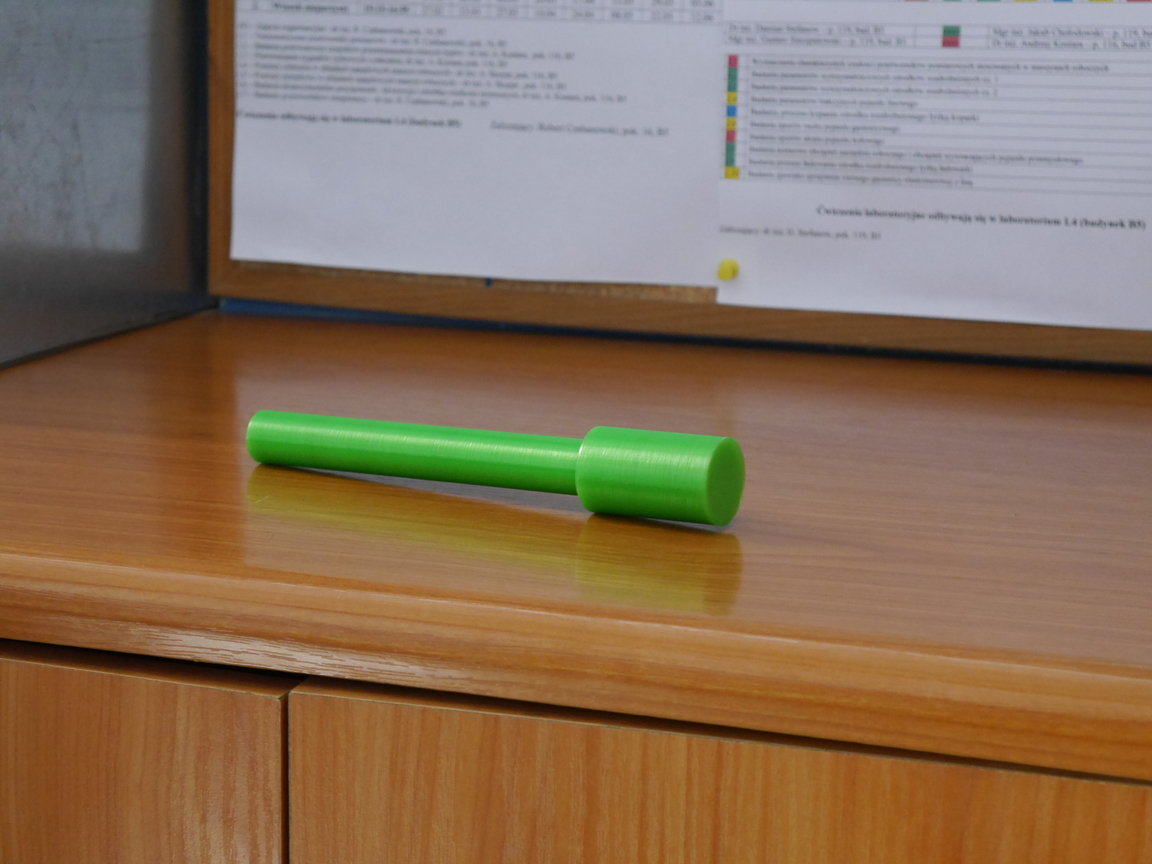cargo_g: (248, 407, 747, 531)
